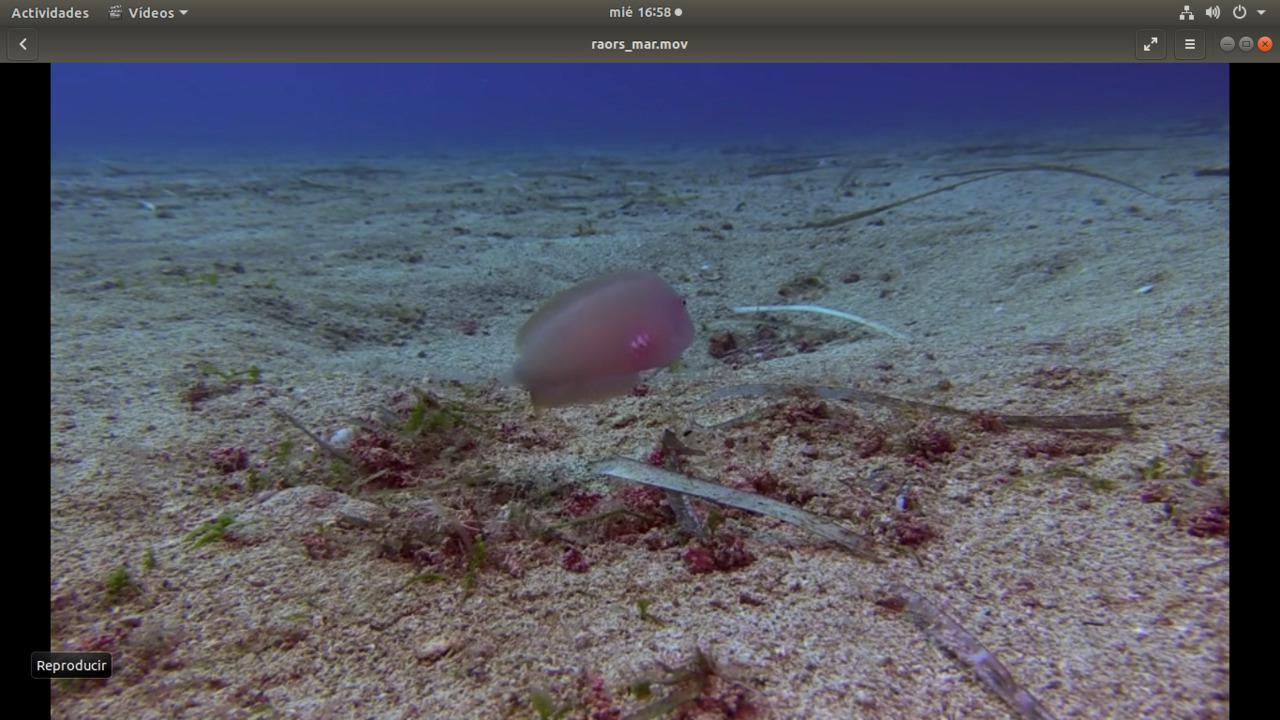raor: (487, 263, 707, 409)
